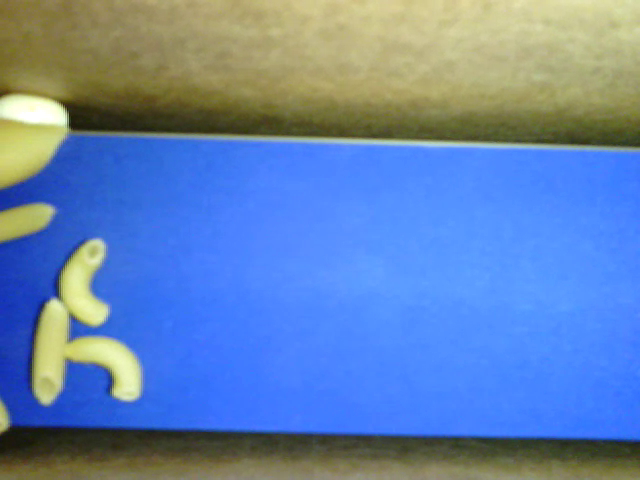elbow: (64, 334, 143, 400), (57, 238, 110, 326)
penne: (32, 297, 69, 406), (1, 201, 59, 240)
shell: (1, 117, 72, 191)
